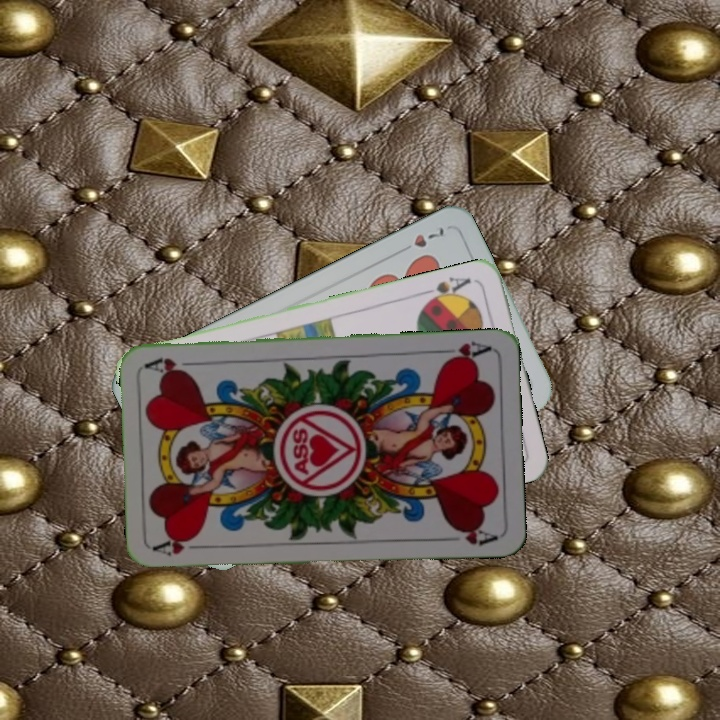H7: (395, 223, 447, 256)
HA: (434, 337, 493, 365), (151, 533, 210, 558)
SA: (419, 273, 474, 307)
